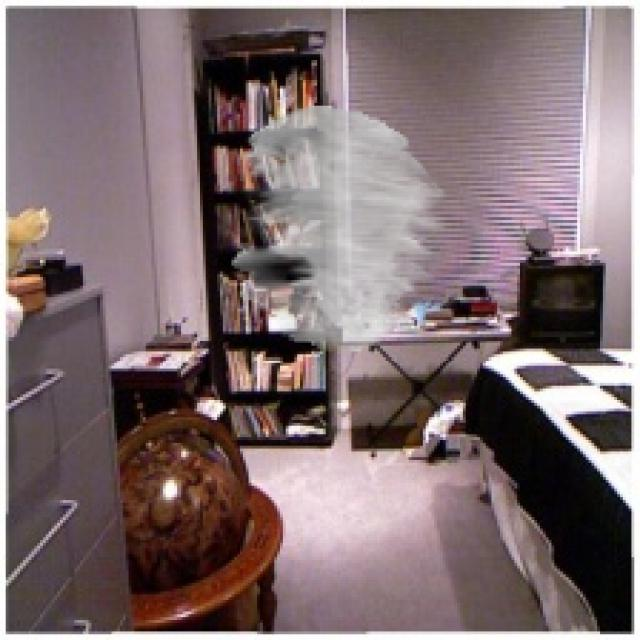smoke: (232, 106, 448, 351)
